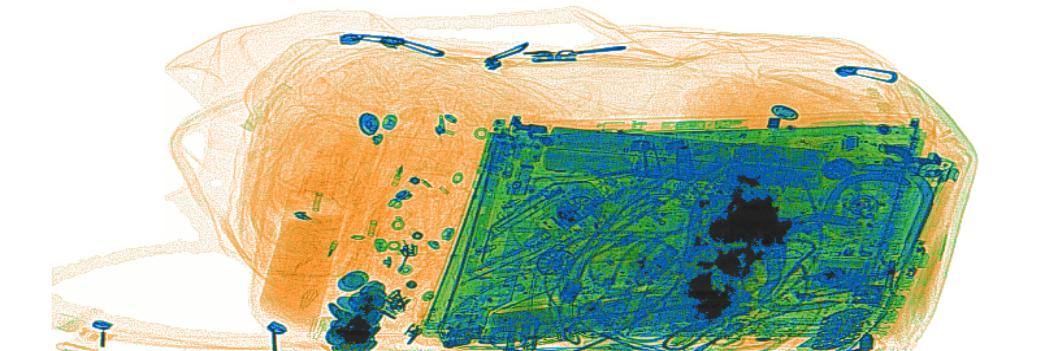plasticBottleWithaNozzle: (252, 142, 347, 337)
